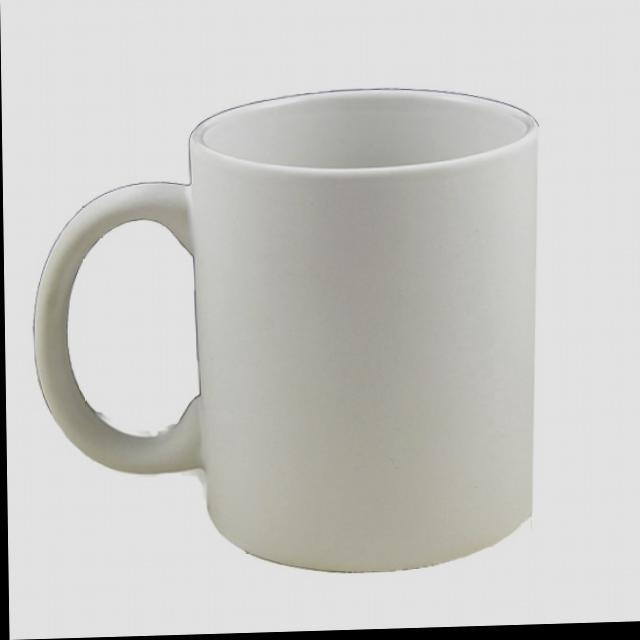cup: (26, 88, 546, 588)
